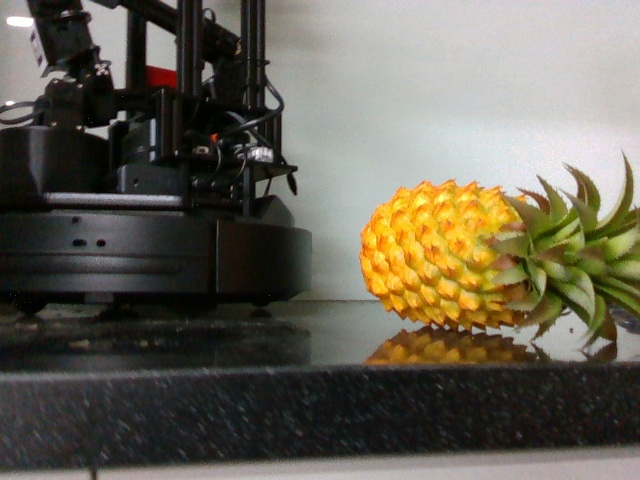pineapple: (358, 166, 639, 336)
